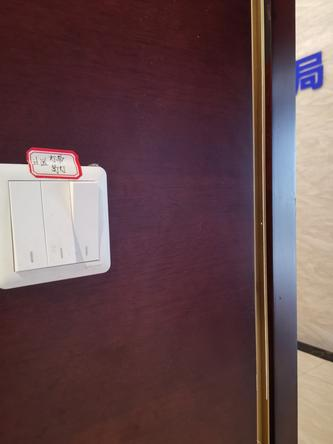switch: (5, 175, 50, 275), (40, 171, 80, 269), (68, 174, 105, 263)
